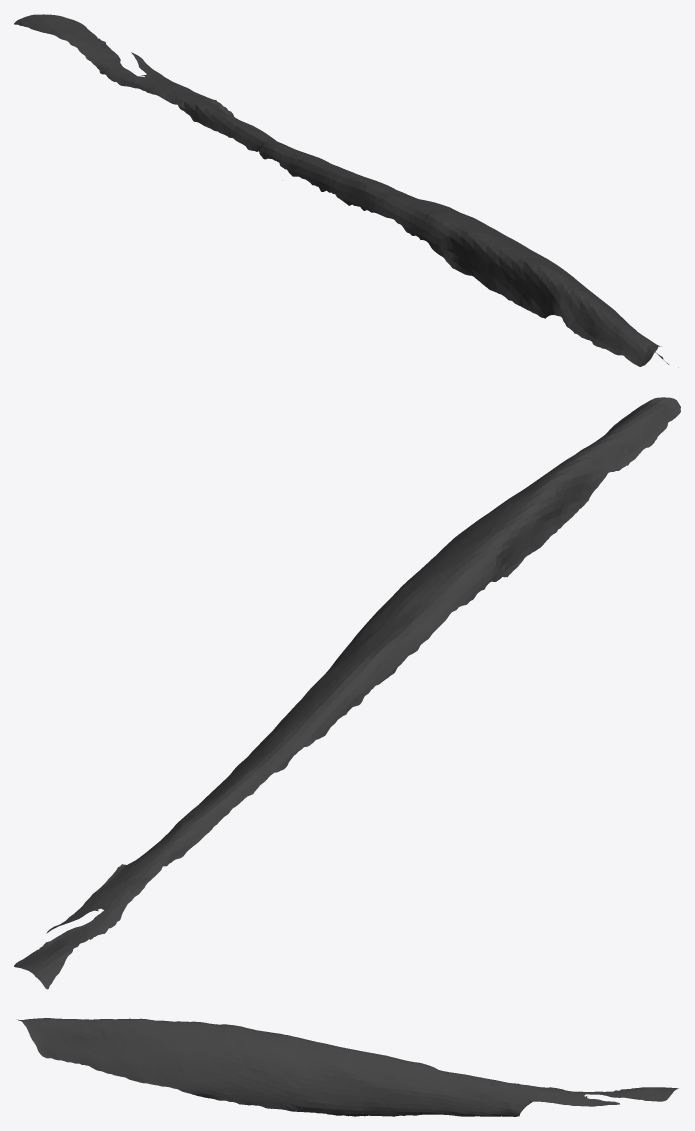
Rendered from musc_ulnaris_lateralis.glb.
3 views of the same model, one above another, from view 1: azimuth 30°, elevation 25°; view 2: azimuth 150°, elevation 25°; view 3: azimuth 270°, elevation 25° (orthographic). The views are drawn at different scales.
Parts seen in each view (by area): view 1: musc_ulnaris_lateralis; view 2: musc_ulnaris_lateralis; view 3: musc_ulnaris_lateralis.
Part boxes in pixels (x1,y1,x2,y2): musc_ulnaris_lateralis: [14, 14, 678, 367]; musc_ulnaris_lateralis: [14, 397, 680, 989]; musc_ulnaris_lateralis: [17, 1018, 678, 1116].
Bounding box in the file's own units: 0.0599 × 0.0804 × 0.5835.
Materials: 1 (1 with a texture image).
